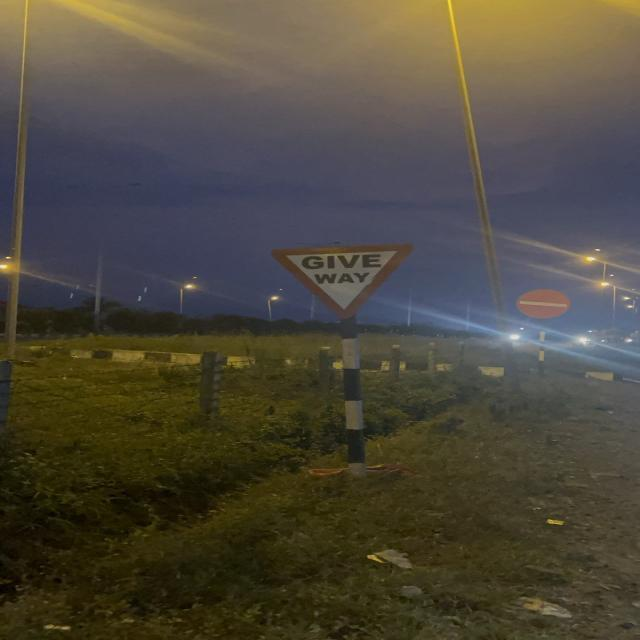give way: (273, 241, 417, 323)
